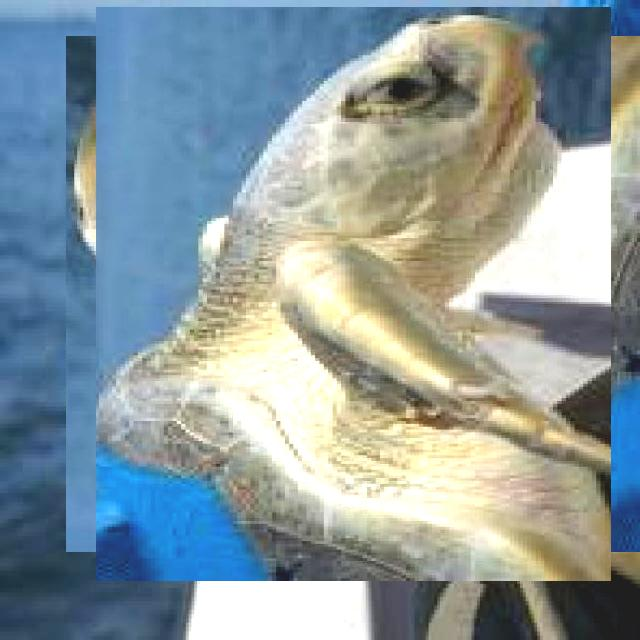Sea turtle: (80, 21, 626, 566)
